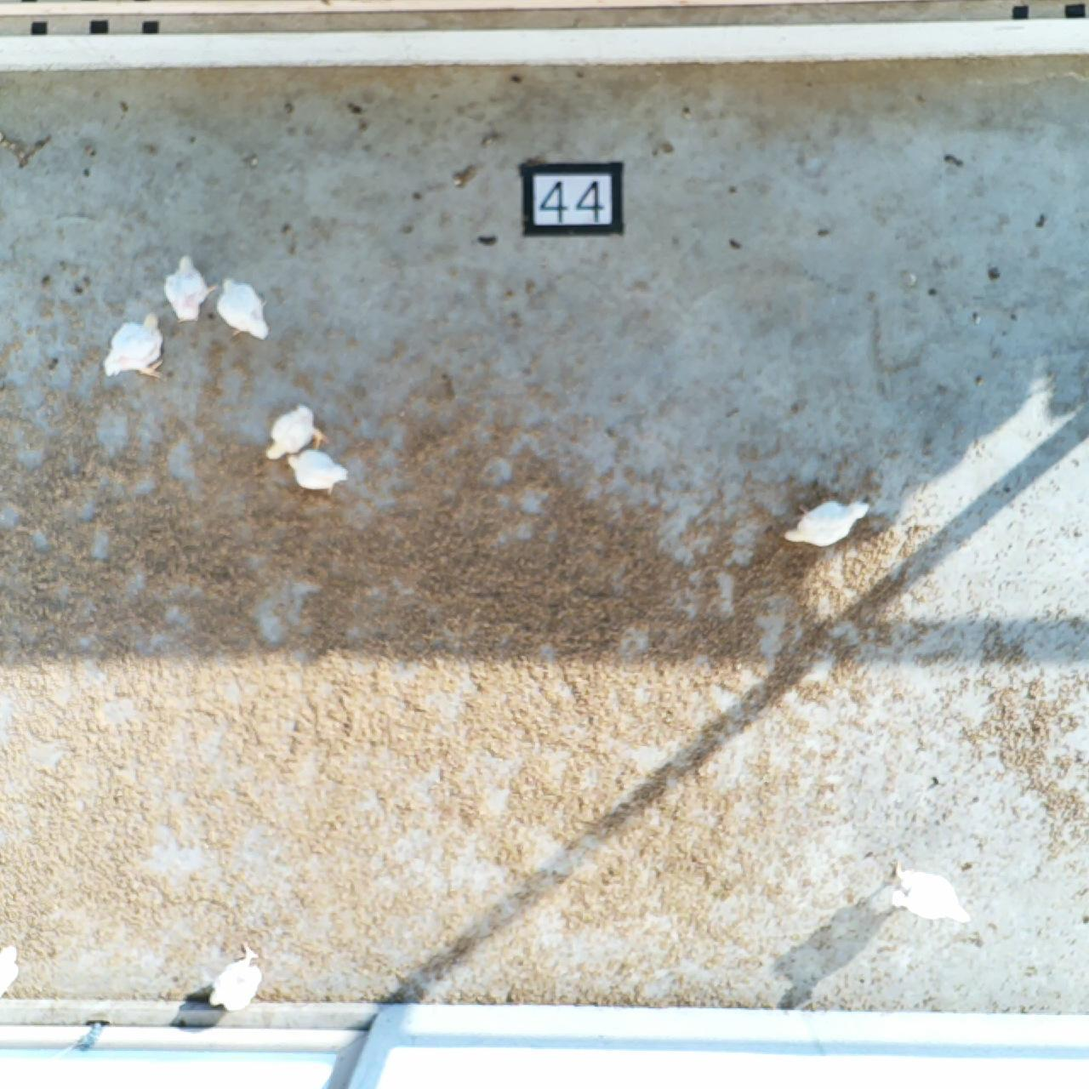chicken: (875, 849, 977, 934), (779, 483, 869, 554), (204, 936, 279, 1018), (94, 311, 174, 385), (212, 274, 275, 352), (159, 247, 218, 330), (277, 435, 352, 499), (262, 401, 327, 469), (0, 944, 29, 1005)
